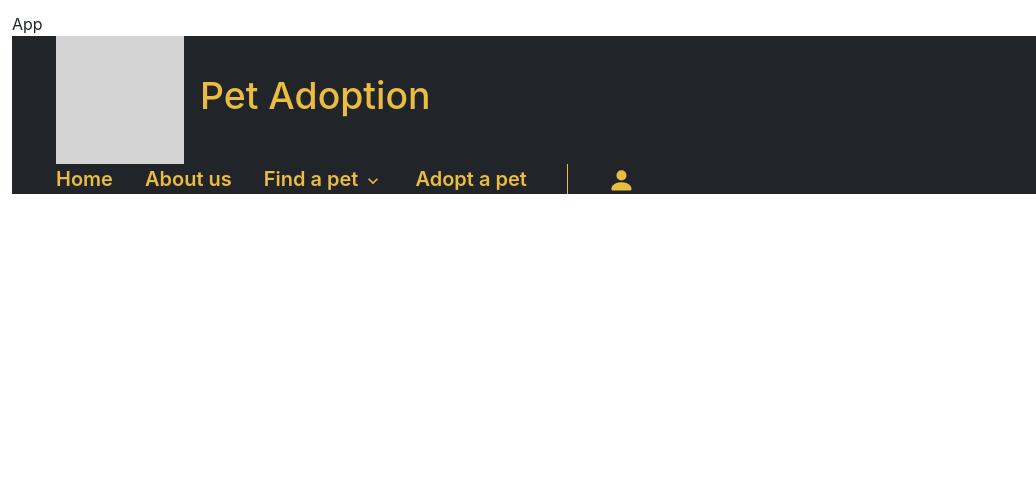
<Header /> › when user is logged in › and user have ADMIN role › clicking on user icon › shows the correct content
Click the icon with test id "userIcon": click(621, 181) [608,167,635,194]
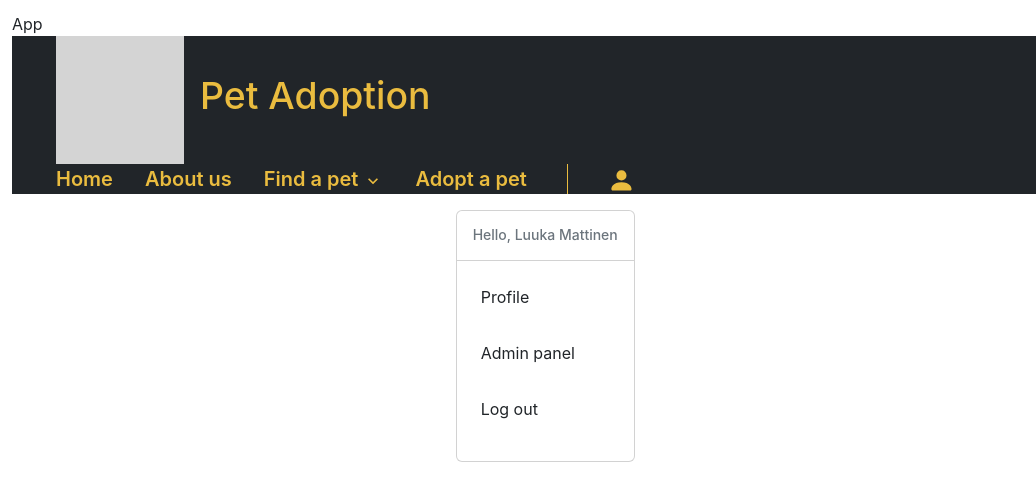
expect the link "Profile" is shown: met, box [481,287,529,307]
expect the link "Admin panel" is shown: met, box [481,343,575,363]
expect the button "Log out" is shown: met, box [481,399,538,419]
